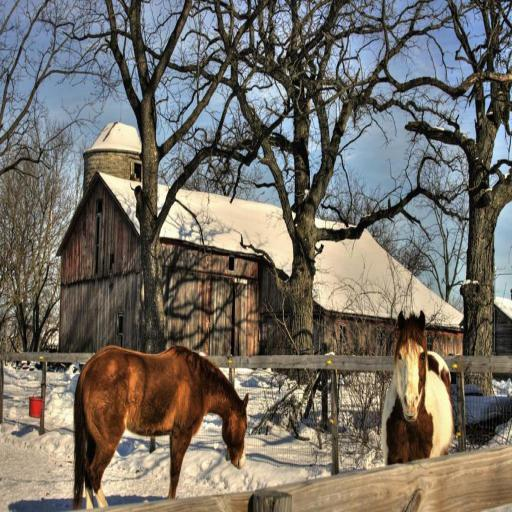Horse: (70, 341, 250, 511), (379, 309, 455, 467)
